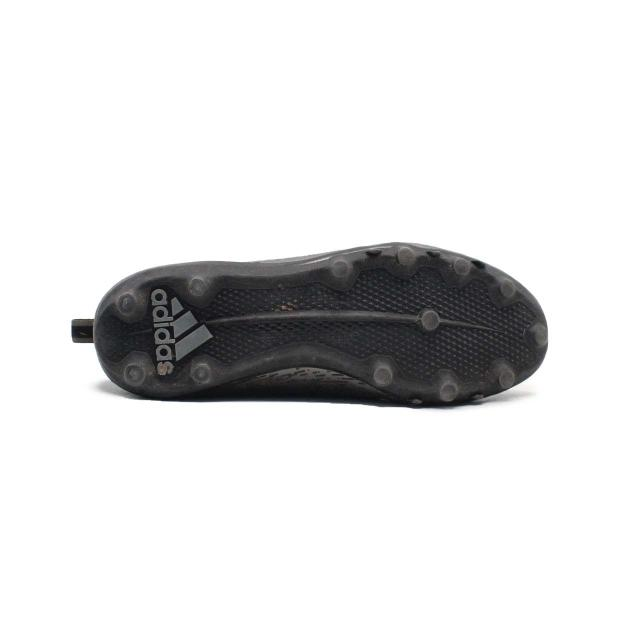outersole: (71, 245, 548, 408)
